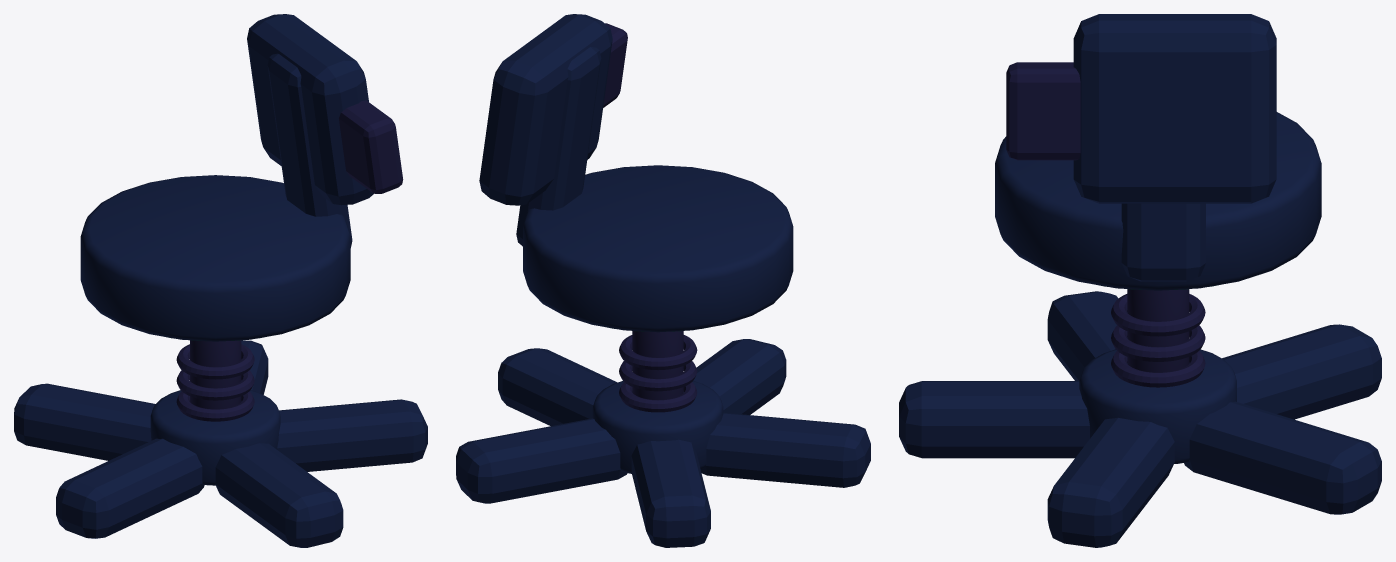
Rendered from prp_base_mission_command_chair_visual_top3d_v003.glb.
3 views of the same model, side by side, from view 1: azimuth 30°, elevation 25°; view 2: azimuth 150°, elevation 25°; view 3: azimuth 270°, elevation 25° (orthographic). The views are drawn at different scales.
Visible parts, largest first — view 1: 战术指挥椅_主体_金属哑光反光; view 2: 战术指挥椅_主体_金属哑光反光; view 3: 战术指挥椅_主体_金属哑光反光.
Boxes of the visible parts, left/top/right/bottom form: 战术指挥椅_主体_金属哑光反光: left=14, top=14, right=427, bottom=547; 战术指挥椅_主体_金属哑光反光: left=456, top=14, right=870, bottom=547; 战术指挥椅_主体_金属哑光反光: left=899, top=14, right=1381, bottom=547.
Size of the model in its own units: 1.25 by 1.35 by 1.2.
2 materials, 2 textured.
